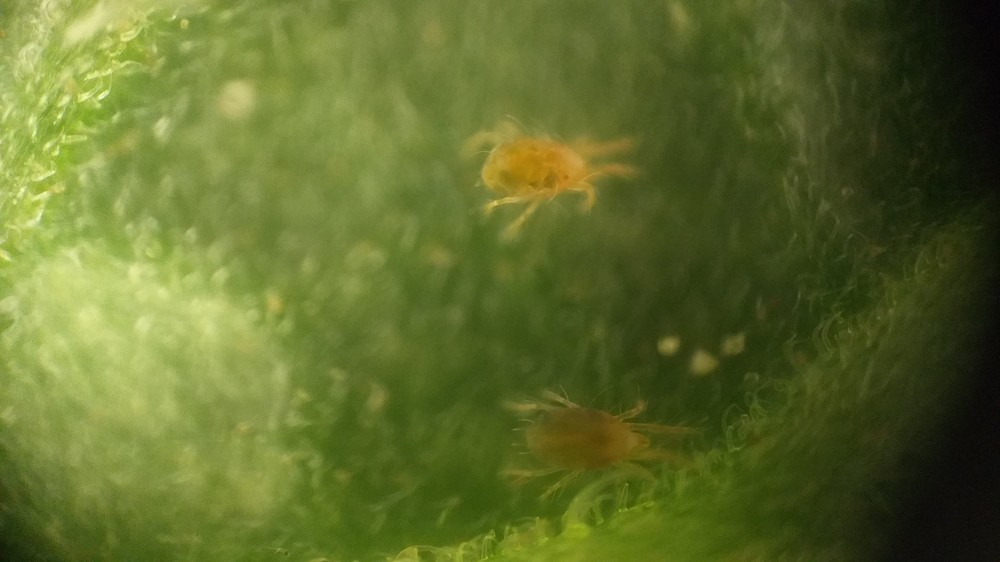Aracnido Rojo: (491, 370, 707, 500), (444, 102, 650, 233)
